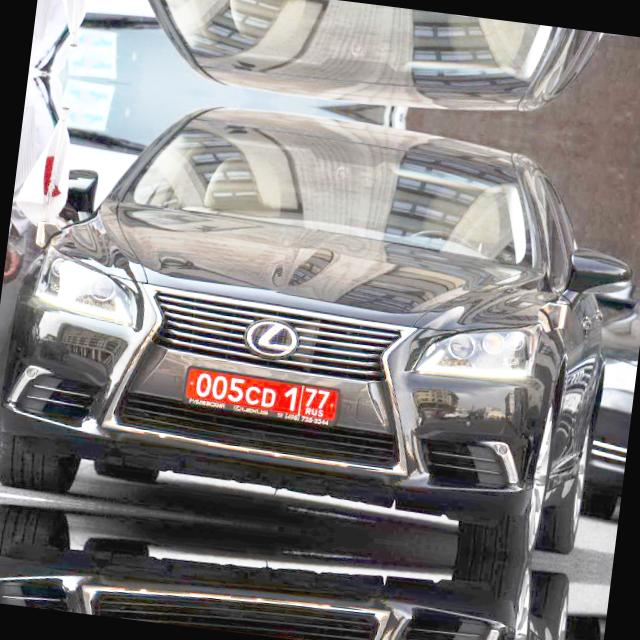diplomatic: (170, 354, 350, 435)
